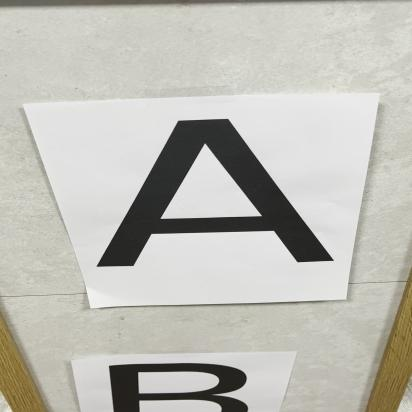seat: (86, 100, 366, 281)
